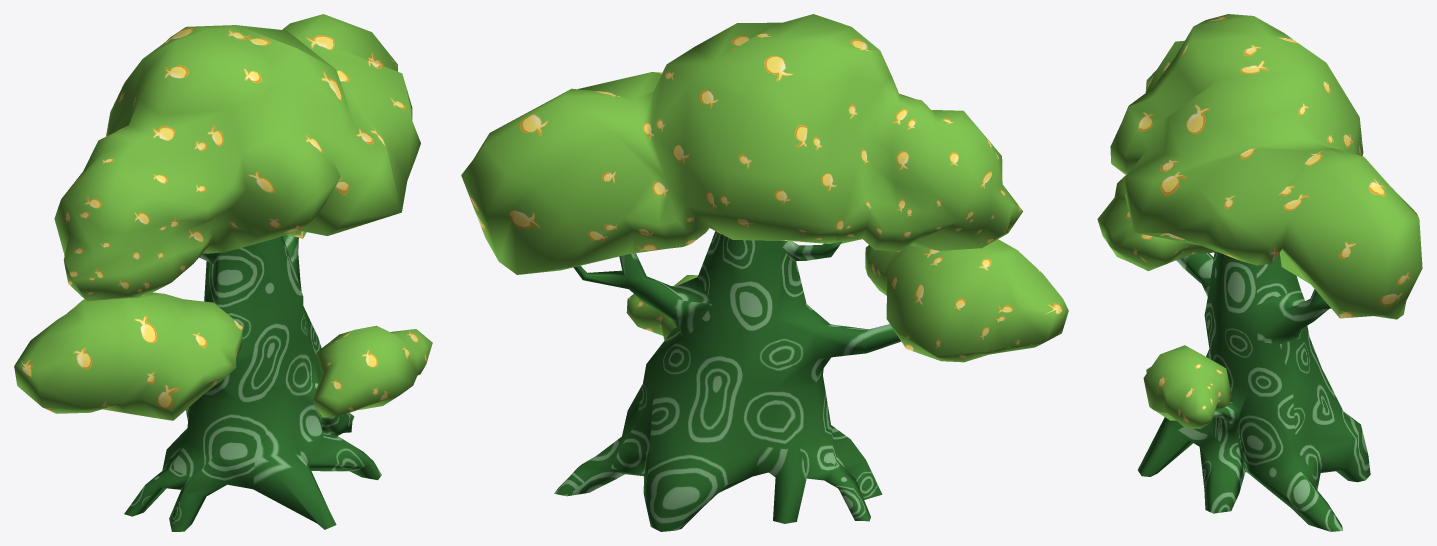
The model's file is S_Tree_J.fbx.
The picture shows the model from 3 angles, left to right: view 1: azimuth 30°, elevation 25°; view 2: azimuth 150°, elevation 25°; view 3: azimuth 270°, elevation 25°; orthographic projection. The views are drawn at different scales.
Parts seen in each view (by area): view 1: S_Tree_J_m; view 2: S_Tree_J_m; view 3: S_Tree_J_m.
Part boxes in pixels (x1,y1,x2,y2): S_Tree_J_m: (14, 14, 432, 531); S_Tree_J_m: (461, 14, 1068, 531); S_Tree_J_m: (1097, 14, 1422, 531).
Bounding box in the file's own units: 161 × 151 × 105.
